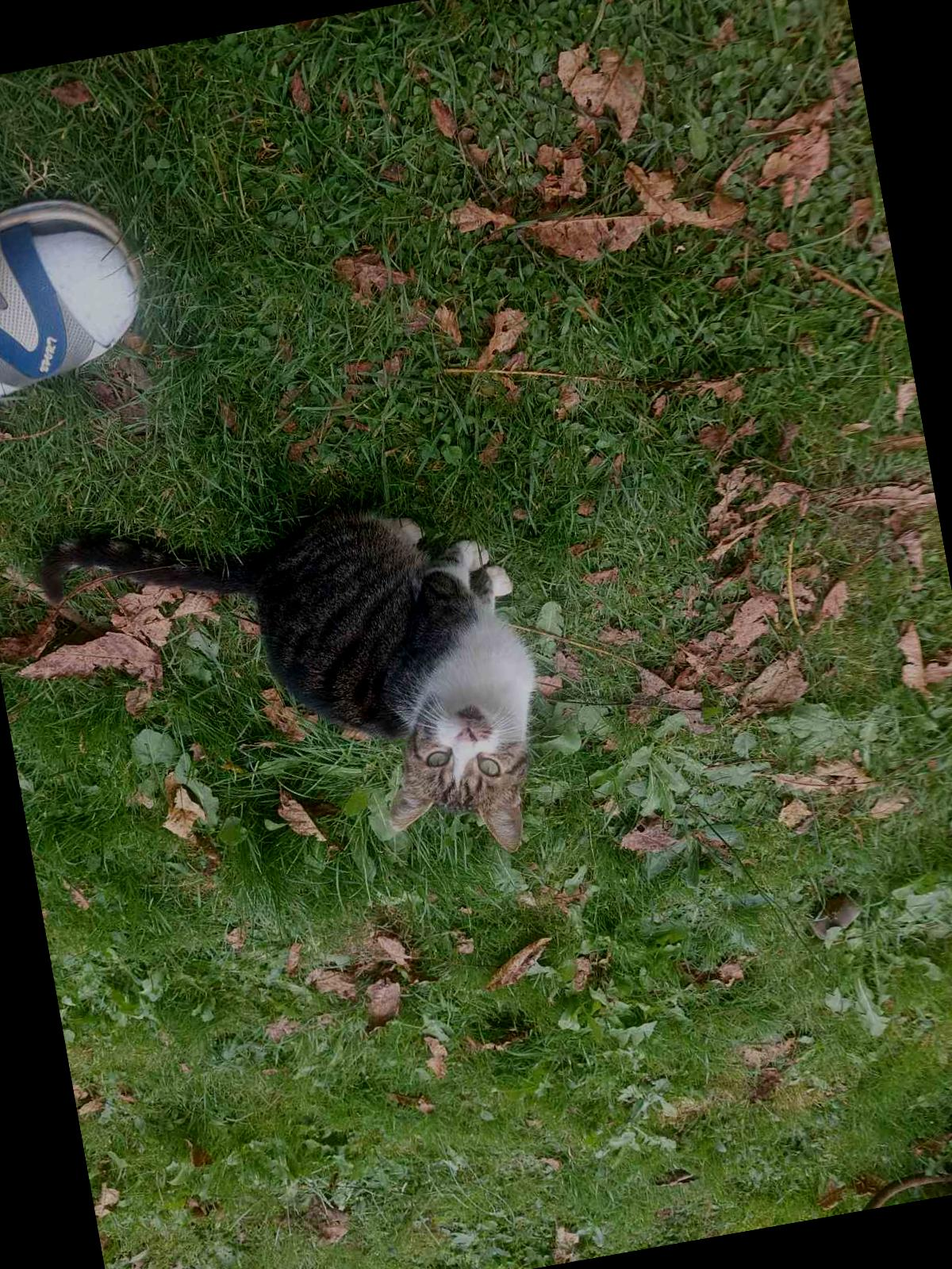macka: (32, 456, 564, 928)
